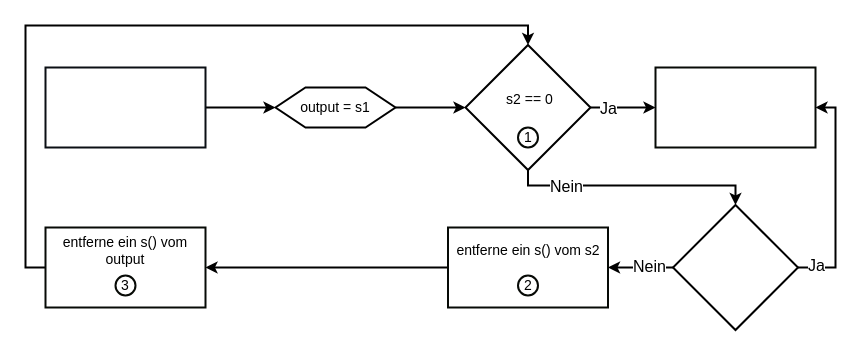
Some shapes in this 861 by 348 pixel diagram are drawn without their labels. The centre of each missing label's shape, as x and y in pixels:
gebe output zurück: the point at 735,107
output == 0: the point at 735,267
sub(s1, s2, output): the point at 125,107
